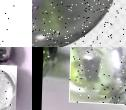ironball: (32, 0, 113, 46), (69, 47, 125, 103), (0, 62, 17, 109), (43, 45, 59, 77), (0, 47, 13, 62)
